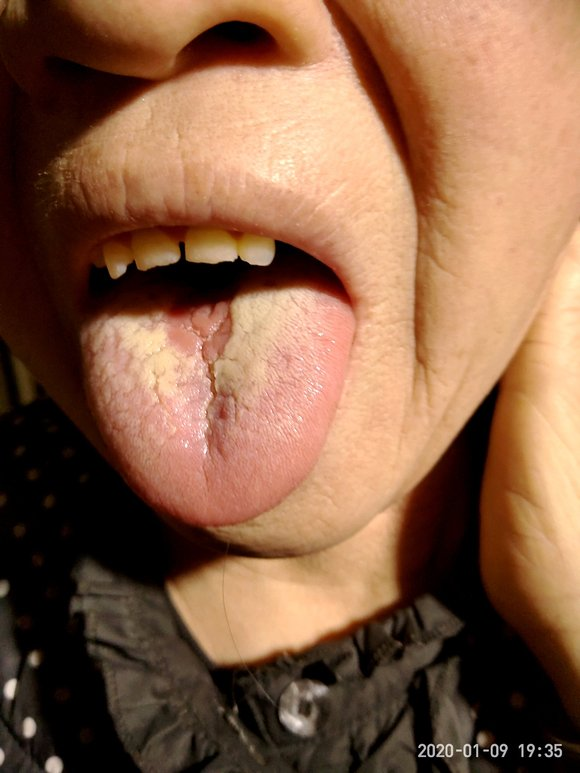botaishe: (148, 290, 242, 369)
huangtaishe: (78, 270, 353, 527)
liewenshe: (185, 295, 245, 493)
